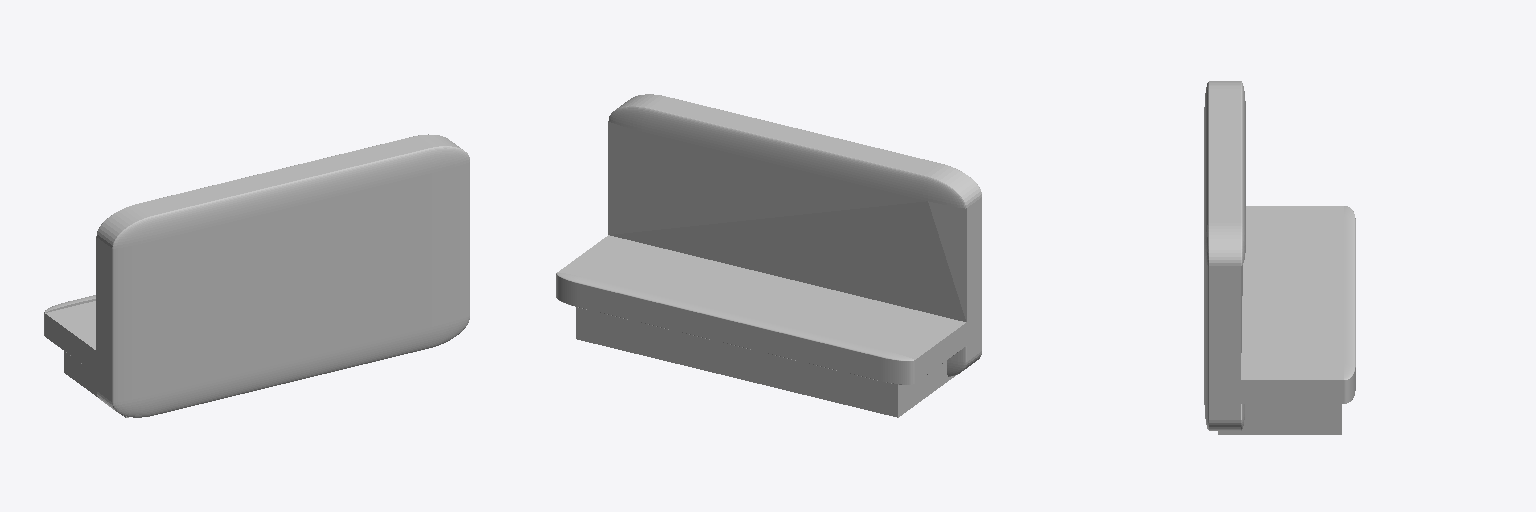
File: booth.obj
3 renders of one model, left to right at view 1: azimuth 30°, elevation 25°; view 2: azimuth 150°, elevation 25°; view 3: azimuth 270°, elevation 25°, orthographic.
Visible parts, largest first — view 1: Cube.001_Cube.002; view 2: Cube.001_Cube.002; view 3: Cube.001_Cube.002.
Boxes of the visible parts, x1=… form: Cube.001_Cube.002: x1=44, y1=134, x2=469, y2=417; Cube.001_Cube.002: x1=556, y1=94, x2=981, y2=417; Cube.001_Cube.002: x1=1204, y1=81, x2=1355, y2=434.
Size of the model in its own units: 10 by 5.34 by 3.66.